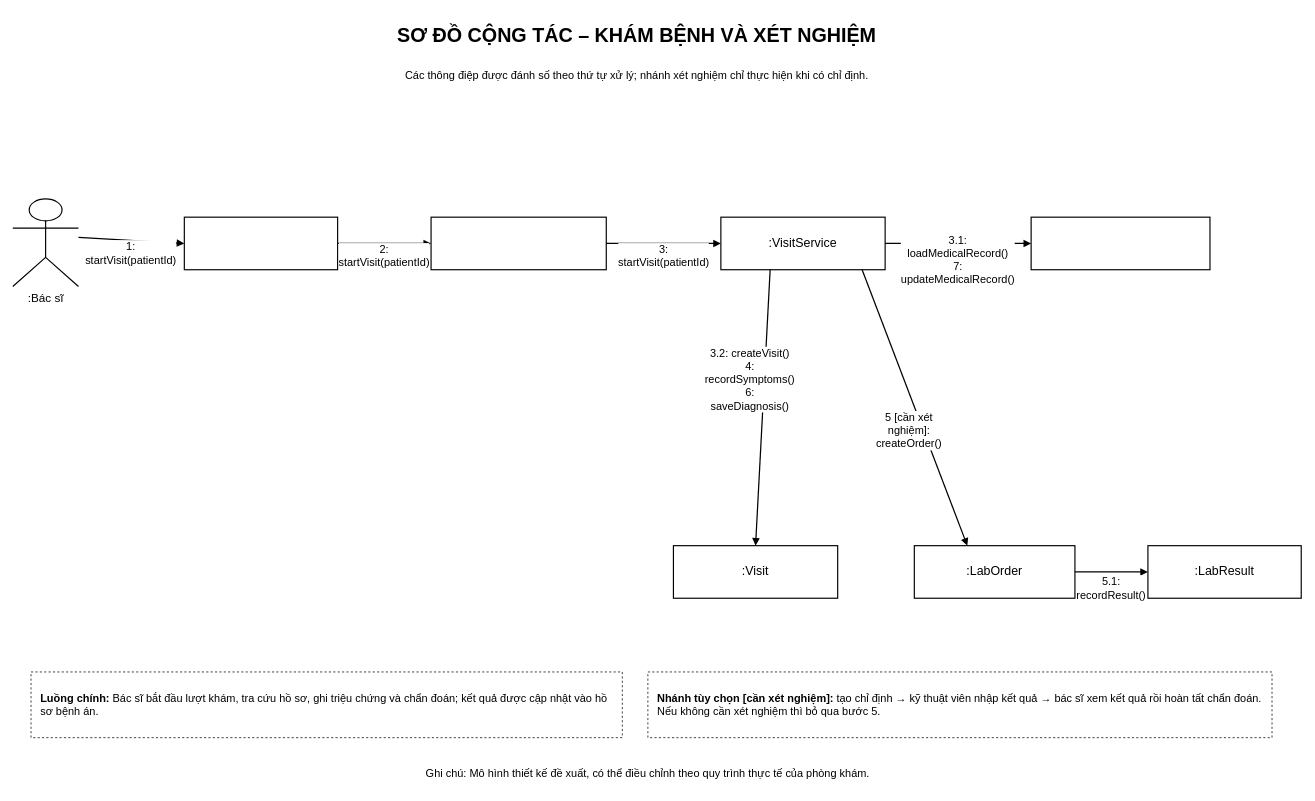
Image size: 1315x801. Some labels were removed from this diagram. Here are the shapes that lost their labels. From the top down, the box of each, then its label:
(183, 216, 338, 270): :VisitUI
(430, 216, 606, 270): :VisitController
(1030, 216, 1210, 270): :MedicalRecord
